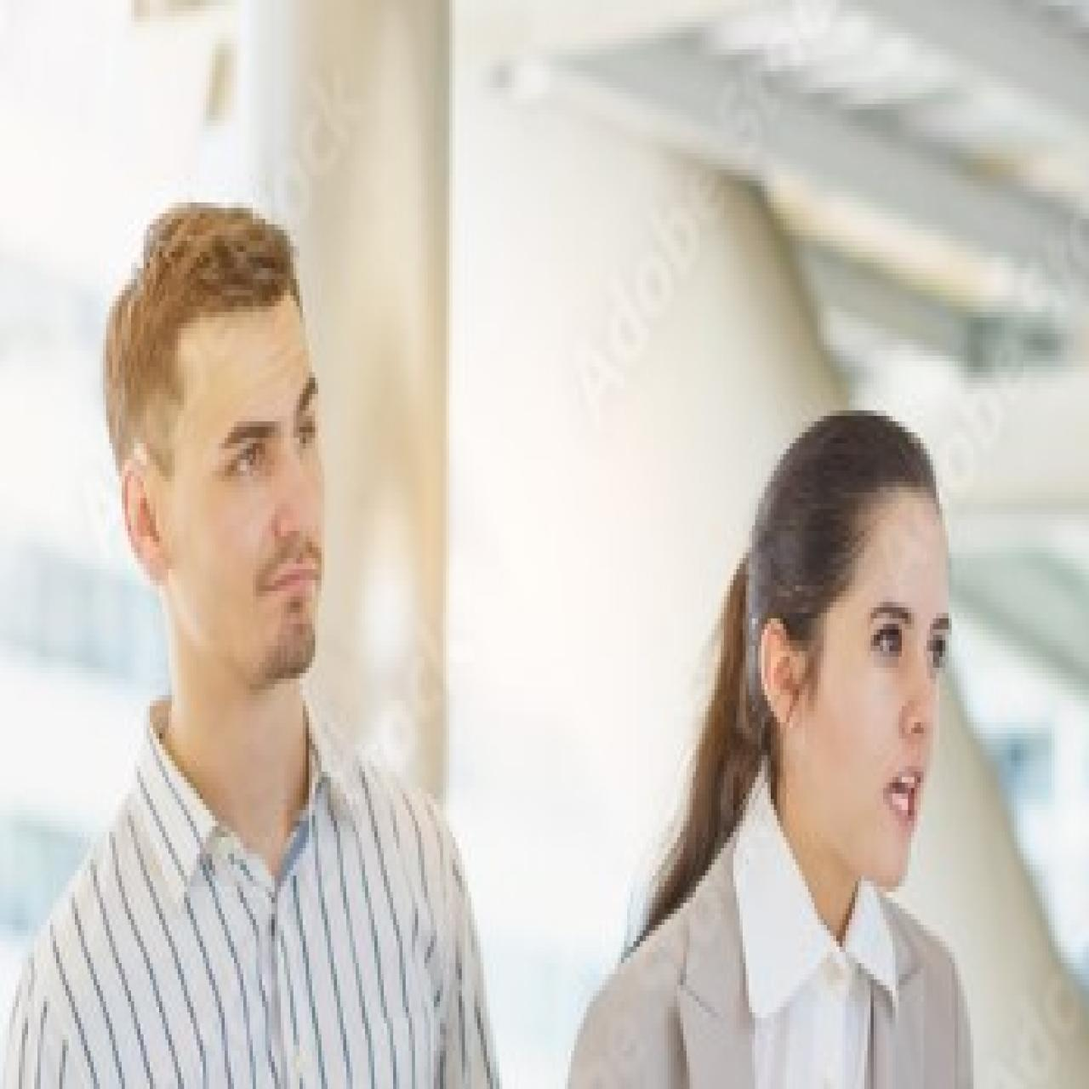NO_Safety_Vest: (57, 791, 440, 1089), (579, 909, 973, 1089)
Person: (22, 169, 503, 1089), (546, 378, 983, 1089)
